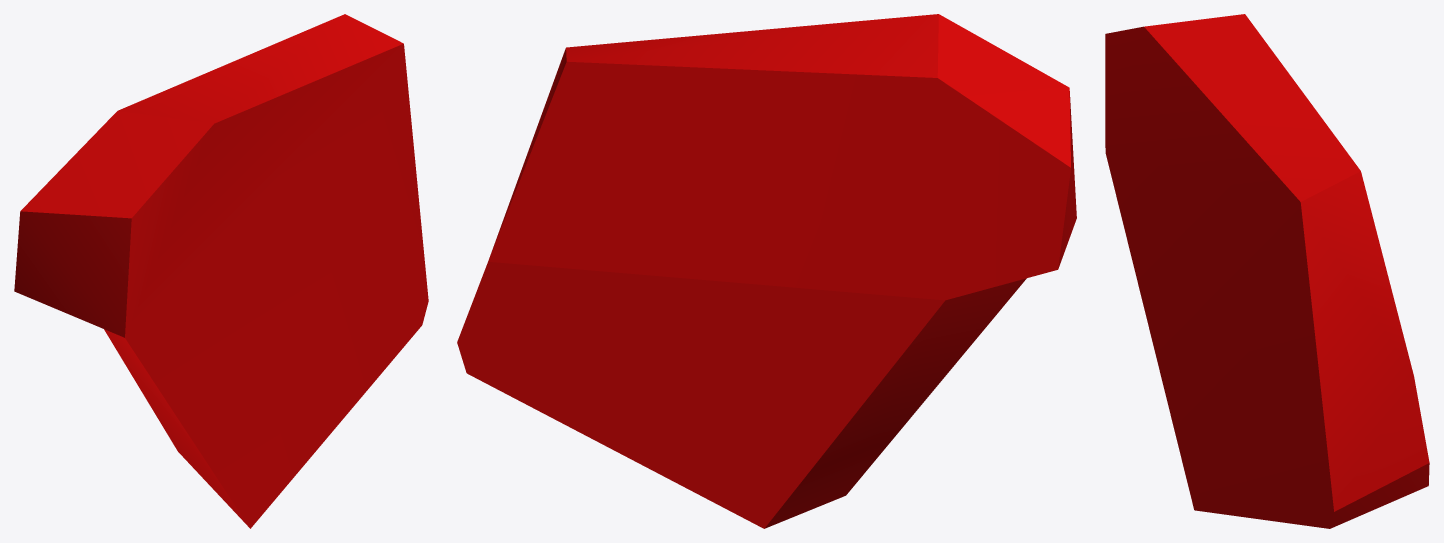
File: eff_mesh_j_duoji_baifa_shizhuang_03.glb
3 renders of one model, left to right at view 1: azimuth 30°, elevation 25°; view 2: azimuth 150°, elevation 25°; view 3: azimuth 270°, elevation 25°, orthographic. The views are drawn at different scales.
Parts seen in each view (by area): view 1: eff_mesh_j_duoji_baifa_shizhuang_03; view 2: eff_mesh_j_duoji_baifa_shizhuang_03; view 3: eff_mesh_j_duoji_baifa_shizhuang_03.
Boxes of the visible parts, x1,y1,x2,y2 form: eff_mesh_j_duoji_baifa_shizhuang_03: [14, 14, 428, 528]; eff_mesh_j_duoji_baifa_shizhuang_03: [457, 14, 1076, 528]; eff_mesh_j_duoji_baifa_shizhuang_03: [1105, 14, 1429, 528].
Bounding box in the file's own units: 27.86 × 25.13 × 16.29.
